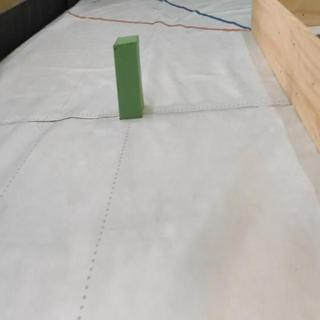greenbox: (116, 38, 141, 119)
